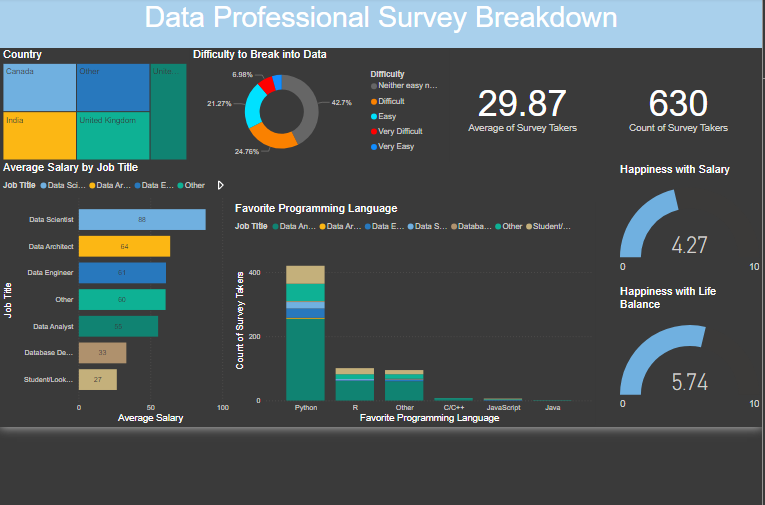

This screenshot's page, from the dashboard's own definition file:
{"tool":"powerbi","page":{"name":"Page 1","canvas":[1280,720],"ordinal":0},"visuals":[{"type":"card","fields":{"Values":["CountNonNull(Data Professional Survey.Unique ID)"]},"box":[999.5,84,280.5,193.2],"z":0},{"type":"textbox","box":[0,0,1280,84],"z":1000},{"type":"card","fields":{"Values":["Avg(Data Professional Survey.Q10 - Current Age)"]},"box":[755.9,84,243.6,193.2],"z":2000},{"type":"barChart","title":"Average Salary by Job Title","fields":{"Category":["Data Professional Survey.Q1 - Which Title Best Fits your Current Role?.1"],"Y":["Avg(Data Professional Survey.Average Salary)"],"Series":["Data Professional Survey.Q1 - Which Title Best Fits your Current Role?.1"]},"box":[0,274.1,389.7,444.8],"z":3000},{"type":"columnChart","title":"Favorite Programming Language","fields":{"Category":["Data Professional Survey.Q5 - Favorite Programming Language.1"],"Y":["CountNonNull(Data Professional Survey.Unique ID)"],"Series":["Data Professional Survey.Q1 - Which Title Best Fits your Current Role?.1"]},"box":[389.7,343.1,610.3,375.9],"z":4000},{"type":"treemap","title":"Country","fields":{"Values":["Count(Data Professional Survey.Q11 - Which Country do you live in?.1)"],"Group":["Data Professional Survey.Q11 - Which Country do you live in?.1"]},"box":[0,84.5,319,193.1],"z":5000},{"type":"gauge","title":"Happiness with Salary","fields":{"Y":["Avg(Data Professional Survey.Q6 - How Happy are you in your Current Position with the following? (Salary))"],"MinValue":["Min(Data Professional Survey.Q6 - How Happy are you in your Current Position with the following? (Salary))"],"MaxValue":["Max(Data Professional Survey.Q6 - How Happy are you in your Current Position with the following? (Salary))"]},"box":[1036.5,276.9,244.2,205.8],"z":6000},{"type":"gauge","title":"Happiness with Life Balance","fields":{"Y":["Avg(Data Professional Survey.Q6 - How Happy are you in your Current Position with the following? (Work/Life Balance))"],"MinValue":["Min(Data Professional Survey.Q6 - How Happy are you in your Current Position with the following? (Work/Life Balance))"],"MaxValue":["Max(Data Professional Survey.Q6 - How Happy are you in your Current Position with the following? (Work/Life Balance))"]},"box":[1036.5,482.7,244.2,236.5],"z":7000},{"type":"donutChart","title":"Difficulty to Break into Data","fields":{"Category":["Data Professional Survey.Q7 - How difficult was it for you to break into Data?"],"Y":["CountNonNull(Data Professional Survey.Q7 - How difficult was it for you to break into Data?)"]},"box":[319,84.5,436.2,193.1],"z":8000}]}

Visuals, with their boxes on the page's 1280x720 design canvas (x1, y1, x2, y2). These are canvas units, not pixel positions in the 765x505 screenshot, which may show the page scaled, cropped or inside an application window:
card - CountNonNull(Data Professional Survey.Unique ID): box(1000, 84, 1280, 277)
textbox: box(0, 0, 1280, 84)
card - Avg(Data Professional Survey.Q10 - Current Age): box(756, 84, 1000, 277)
"Average Salary by Job Title" barChart: box(0, 274, 390, 719)
"Favorite Programming Language" columnChart: box(390, 343, 1000, 719)
"Country" treemap: box(0, 84, 319, 278)
"Happiness with Salary" gauge: box(1036, 277, 1281, 483)
"Happiness with Life Balance" gauge: box(1036, 483, 1281, 719)
"Difficulty to Break into Data" donutChart: box(319, 84, 755, 278)
